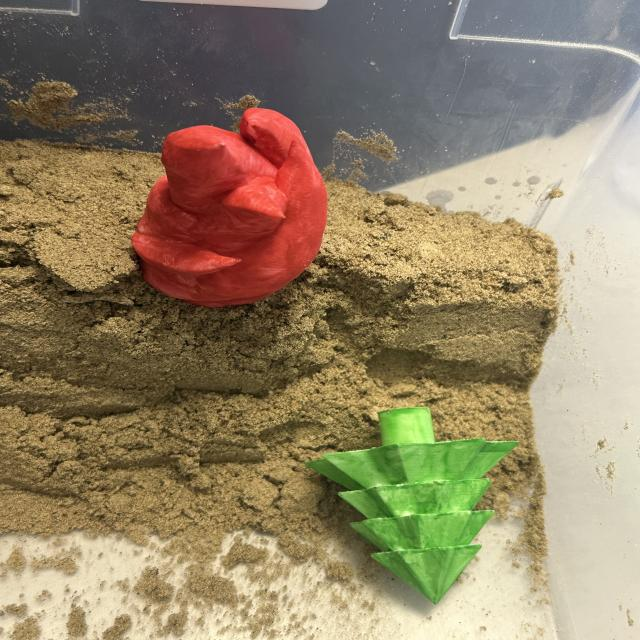fire: (129, 105, 330, 308)
tree: (303, 405, 520, 605)
